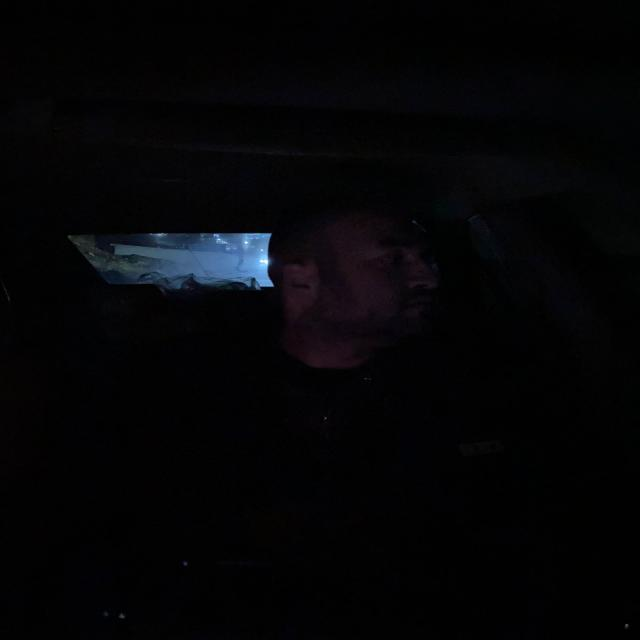LeftRight: (270, 203, 468, 355)
